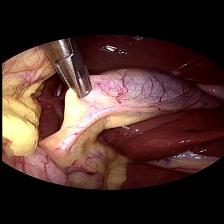Grasper: (53, 50, 95, 99)
